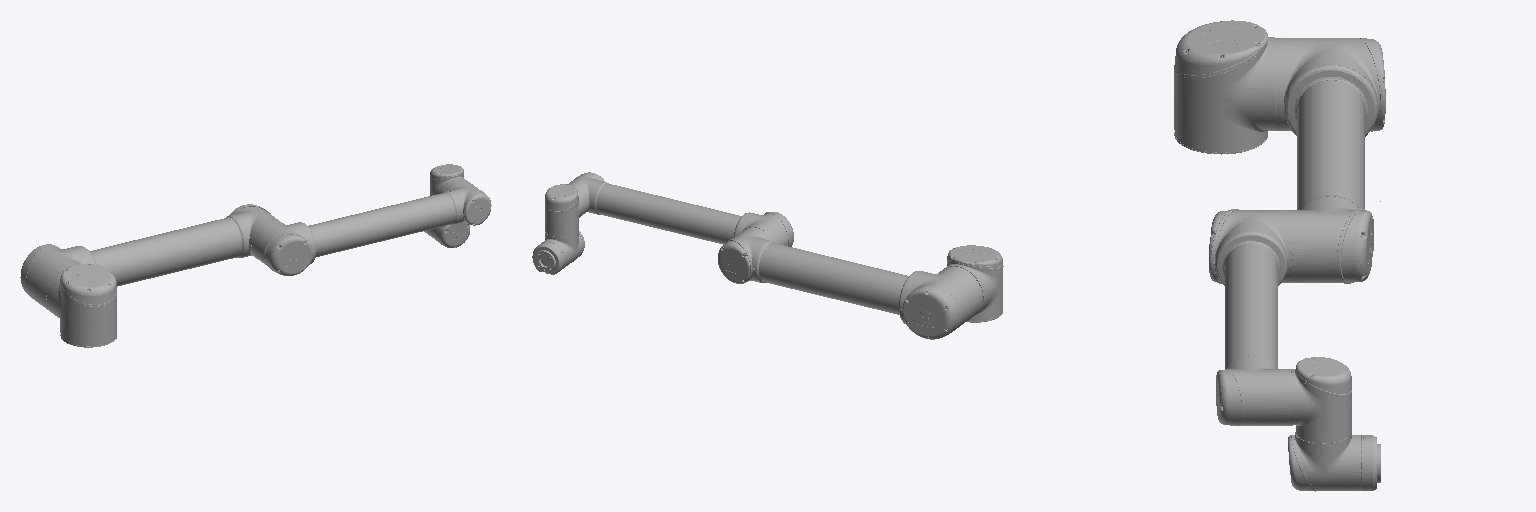
URDF robot description (ur10):
<?xml version="1.0" encoding="utf-8"?>
<!-- =================================================================================== -->
<!-- |    This document was autogenerated by xacro from ur10_robot.urdf.xacro          | -->
<!-- |    EDITING THIS FILE BY HAND IS NOT RECOMMENDED                                 | -->
<!-- =================================================================================== -->
<robot name="ur10" xmlns:xacro="http://wiki.ros.org/xacro">
  <gazebo>
    <plugin filename="libgazebo_ros_control.so" name="ros_control">
      <!--robotNamespace>/</robotNamespace-->
      <!--robotSimType>gazebo_ros_control/DefaultRobotHWSim</robotSimType-->
    </plugin>
    <!--
    <plugin name="gazebo_ros_power_monitor_controller" filename="libgazebo_ros_power_monitor.so">
      <alwaysOn>true</alwaysOn>
      <updateRate>1.0</updateRate>
      <timeout>5</timeout>
      <powerStateTopic>power_state</powerStateTopic>
      <powerStateRate>10.0</powerStateRate>
      <fullChargeCapacity>87.78</fullChargeCapacity>     
      <dischargeRate>-474</dischargeRate>
      <chargeRate>525</chargeRate>
      <dischargeVoltage>15.52</dischargeVoltage>
      <chargeVoltage>16.41</chargeVoltage>
    </plugin>
-->
  </gazebo>
  <!--
  Author: [author]
  Contributers: [author], [author], [author]
-->
  <!-- measured from model -->
  <link name="base_link">
    <visual>
      <geometry>
        <mesh filename="package://ur_description/meshes/ur10/visual/base.dae"/>
      </geometry>
      <material name="LightGrey">
        <color rgba="0.7 0.7 0.7 1.0"/>
      </material>
    </visual>
    <collision>
      <geometry>
        <mesh filename="package://ur_description/meshes/ur10/collision/base.stl"/>
      </geometry>
    </collision>
    <inertial>
      <mass value="4.0"/>
      <origin rpy="0 0 0" xyz="0.0 0.0 0.0"/>
      <inertia ixx="0.0061063308908" ixy="0.0" ixz="0.0" iyy="0.0061063308908" iyz="0.0" izz="0.01125"/>
    </inertial>
  </link>
  <joint name="shoulder_pan_joint" type="revolute">
    <parent link="base_link"/>
    <child link="shoulder_link"/>
    <origin rpy="0.0 0.0 0.0" xyz="0.0 0.0 0.1273"/>
    <axis xyz="0 0 1"/>
    <limit effort="330.0" lower="-6.28318530718" upper="6.28318530718" velocity="2.16"/>
    <dynamics damping="0.0" friction="0.0"/>
  </joint>
  <link name="shoulder_link">
    <visual>
      <geometry>
        <mesh filename="package://ur_description/meshes/ur10/visual/shoulder.dae"/>
      </geometry>
      <material name="LightGrey">
        <color rgba="0.7 0.7 0.7 1.0"/>
      </material>
    </visual>
    <collision>
      <geometry>
        <mesh filename="package://ur_description/meshes/ur10/collision/shoulder.stl"/>
      </geometry>
    </collision>
    <inertial>
      <mass value="7.778"/>
      <origin rpy="0 0 0" xyz="0.0 0.0 0.0"/>
      <inertia ixx="0.0314743125769" ixy="0.0" ixz="0.0" iyy="0.0314743125769" iyz="0.0" izz="0.021875625"/>
    </inertial>
  </link>
  <joint name="shoulder_lift_joint" type="revolute">
    <parent link="shoulder_link"/>
    <child link="upper_arm_link"/>
    <origin rpy="0.0 1.57079632679 0.0" xyz="0.0 0.220941 0.0"/>
    <axis xyz="0 1 0"/>
    <limit effort="330.0" lower="-6.28318530718" upper="6.28318530718" velocity="2.16"/>
    <dynamics damping="0.0" friction="0.0"/>
  </joint>
  <link name="upper_arm_link">
    <visual>
      <geometry>
        <mesh filename="package://ur_description/meshes/ur10/visual/upperarm.dae"/>
      </geometry>
      <material name="LightGrey">
        <color rgba="0.7 0.7 0.7 1.0"/>
      </material>
    </visual>
    <collision>
      <geometry>
        <mesh filename="package://ur_description/meshes/ur10/collision/upperarm.stl"/>
      </geometry>
    </collision>
    <inertial>
      <mass value="12.93"/>
      <origin rpy="0 0 0" xyz="0.0 0.0 0.306"/>
      <inertia ixx="0.421753803798" ixy="0.0" ixz="0.0" iyy="0.421753803798" iyz="0.0" izz="0.036365625"/>
    </inertial>
  </link>
  <joint name="elbow_joint" type="revolute">
    <parent link="upper_arm_link"/>
    <child link="forearm_link"/>
    <origin rpy="0.0 0.0 0.0" xyz="0.0 -0.1719 0.612"/>
    <axis xyz="0 1 0"/>
    <limit effort="150.0" lower="-3.14159265359" upper="3.14159265359" velocity="3.15"/>
    <dynamics damping="0.0" friction="0.0"/>
  </joint>
  <link name="forearm_link">
    <visual>
      <geometry>
        <mesh filename="package://ur_description/meshes/ur10/visual/forearm.dae"/>
      </geometry>
      <material name="LightGrey">
        <color rgba="0.7 0.7 0.7 1.0"/>
      </material>
    </visual>
    <collision>
      <geometry>
        <mesh filename="package://ur_description/meshes/ur10/collision/forearm.stl"/>
      </geometry>
    </collision>
    <inertial>
      <mass value="3.87"/>
      <origin rpy="0 0 0" xyz="0.0 0.0 0.28615"/>
      <inertia ixx="0.111069694097" ixy="0.0" ixz="0.0" iyy="0.111069694097" iyz="0.0" izz="0.010884375"/>
    </inertial>
  </link>
  <joint name="wrist_1_joint" type="revolute">
    <parent link="forearm_link"/>
    <child link="wrist_1_link"/>
    <origin rpy="0.0 1.57079632679 0.0" xyz="0.0 0.0 0.5723"/>
    <axis xyz="0 1 0"/>
    <limit effort="54.0" lower="-6.28318530718" upper="6.28318530718" velocity="3.2"/>
    <dynamics damping="0.0" friction="0.0"/>
  </joint>
  <link name="wrist_1_link">
    <visual>
      <geometry>
        <mesh filename="package://ur_description/meshes/ur10/visual/wrist1.dae"/>
      </geometry>
      <material name="LightGrey">
        <color rgba="0.7 0.7 0.7 1.0"/>
      </material>
    </visual>
    <collision>
      <geometry>
        <mesh filename="package://ur_description/meshes/ur10/collision/wrist1.stl"/>
      </geometry>
    </collision>
    <inertial>
      <mass value="1.96"/>
      <origin rpy="0 0 0" xyz="0.0 0.0 0.0"/>
      <inertia ixx="0.0051082479567" ixy="0.0" ixz="0.0" iyy="0.0051082479567" iyz="0.0" izz="0.0055125"/>
    </inertial>
  </link>
  <joint name="wrist_2_joint" type="revolute">
    <parent link="wrist_1_link"/>
    <child link="wrist_2_link"/>
    <origin rpy="0.0 0.0 0.0" xyz="0.0 0.1149 0.0"/>
    <axis xyz="0 0 1"/>
    <limit effort="54.0" lower="-6.28318530718" upper="6.28318530718" velocity="3.2"/>
    <dynamics damping="0.0" friction="0.0"/>
  </joint>
  <link name="wrist_2_link">
    <visual>
      <geometry>
        <mesh filename="package://ur_description/meshes/ur10/visual/wrist2.dae"/>
      </geometry>
      <material name="LightGrey">
        <color rgba="0.7 0.7 0.7 1.0"/>
      </material>
    </visual>
    <collision>
      <geometry>
        <mesh filename="package://ur_description/meshes/ur10/collision/wrist2.stl"/>
      </geometry>
    </collision>
    <inertial>
      <mass value="1.96"/>
      <origin rpy="0 0 0" xyz="0.0 0.0 0.0"/>
      <inertia ixx="0.0051082479567" ixy="0.0" ixz="0.0" iyy="0.0051082479567" iyz="0.0" izz="0.0055125"/>
    </inertial>
  </link>
  <joint name="wrist_3_joint" type="revolute">
    <parent link="wrist_2_link"/>
    <child link="wrist_3_link"/>
    <origin rpy="0.0 0.0 0.0" xyz="0.0 0.0 0.1157"/>
    <axis xyz="0 1 0"/>
    <limit effort="54.0" lower="-6.28318530718" upper="6.28318530718" velocity="3.2"/>
    <dynamics damping="0.0" friction="0.0"/>
  </joint>
  <link name="wrist_3_link">
    <visual>
      <geometry>
        <mesh filename="package://ur_description/meshes/ur10/visual/wrist3.dae"/>
      </geometry>
      <material name="LightGrey">
        <color rgba="0.7 0.7 0.7 1.0"/>
      </material>
    </visual>
    <collision>
      <geometry>
        <mesh filename="package://ur_description/meshes/ur10/collision/wrist3.stl"/>
      </geometry>
    </collision>
    <inertial>
      <mass value="0.202"/>
      <origin rpy="0 0 0" xyz="0.0 0.0 0.0"/>
      <inertia ixx="0.000526462289415" ixy="0.0" ixz="0.0" iyy="0.000526462289415" iyz="0.0" izz="0.000568125"/>
    </inertial>
  </link>
  <joint name="ee_fixed_joint" type="fixed">
    <parent link="wrist_3_link"/>
    <child link="ee_link"/>
    <origin rpy="0.0 0.0 1.57079632679" xyz="0.0 0.0922 0.0"/>
  </joint>
  <link name="ee_link">
    <collision>
      <geometry>
        <box size="0.01 0.01 0.01"/>
      </geometry>
      <origin rpy="0 0 0" xyz="-0.01 0 0"/>
    </collision>
  </link>
  <transmission name="shoulder_pan_trans">
    <type>transmission_interface/SimpleTransmission</type>
    <joint name="shoulder_pan_joint">
      <hardwareInterface>hardware_interface/PositionJointInterface</hardwareInterface>
    </joint>
    <actuator name="shoulder_pan_motor">
      <mechanicalReduction>1</mechanicalReduction>
    </actuator>
  </transmission>
  <transmission name="shoulder_lift_trans">
    <type>transmission_interface/SimpleTransmission</type>
    <joint name="shoulder_lift_joint">
      <hardwareInterface>hardware_interface/PositionJointInterface</hardwareInterface>
    </joint>
    <actuator name="shoulder_lift_motor">
      <mechanicalReduction>1</mechanicalReduction>
    </actuator>
  </transmission>
  <transmission name="elbow_trans">
    <type>transmission_interface/SimpleTransmission</type>
    <joint name="elbow_joint">
      <hardwareInterface>hardware_interface/PositionJointInterface</hardwareInterface>
    </joint>
    <actuator name="elbow_motor">
      <mechanicalReduction>1</mechanicalReduction>
    </actuator>
  </transmission>
  <transmission name="wrist_1_trans">
    <type>transmission_interface/SimpleTransmission</type>
    <joint name="wrist_1_joint">
      <hardwareInterface>hardware_interface/PositionJointInterface</hardwareInterface>
    </joint>
    <actuator name="wrist_1_motor">
      <mechanicalReduction>1</mechanicalReduction>
    </actuator>
  </transmission>
  <transmission name="wrist_2_trans">
    <type>transmission_interface/SimpleTransmission</type>
    <joint name="wrist_2_joint">
      <hardwareInterface>hardware_interface/PositionJointInterface</hardwareInterface>
    </joint>
    <actuator name="wrist_2_motor">
      <mechanicalReduction>1</mechanicalReduction>
    </actuator>
  </transmission>
  <transmission name="wrist_3_trans">
    <type>transmission_interface/SimpleTransmission</type>
    <joint name="wrist_3_joint">
      <hardwareInterface>hardware_interface/PositionJointInterface</hardwareInterface>
    </joint>
    <actuator name="wrist_3_motor">
      <mechanicalReduction>1</mechanicalReduction>
    </actuator>
  </transmission>
  <gazebo reference="shoulder_link">
    <selfCollide>true</selfCollide>
  </gazebo>
  <gazebo reference="upper_arm_link">
    <selfCollide>true</selfCollide>
  </gazebo>
  <gazebo reference="forearm_link">
    <selfCollide>true</selfCollide>
  </gazebo>
  <gazebo reference="wrist_1_link">
    <selfCollide>true</selfCollide>
  </gazebo>
  <gazebo reference="wrist_3_link">
    <selfCollide>true</selfCollide>
  </gazebo>
  <gazebo reference="wrist_2_link">
    <selfCollide>true</selfCollide>
  </gazebo>
  <gazebo reference="ee_link">
    <selfCollide>true</selfCollide>
  </gazebo>
  <!-- ROS base_link to UR 'Base' Coordinates transform -->
  <link name="base"/>
  <joint name="base_link-base_fixed_joint" type="fixed">
    <!-- NOTE: this rotation is only needed as long as base_link itself is
                 not corrected wrt the real robot (ie: rotated over 180
                 degrees)
      -->
    <origin rpy="0 0 -3.14159265359" xyz="0 0 0"/>
    <parent link="base_link"/>
    <child link="base"/>
  </joint>
  <!-- Frame coincident with all-zeros TCP on UR controller -->
  <link name="tool0"/>
  <joint name="wrist_3_link-tool0_fixed_joint" type="fixed">
    <origin rpy="-1.57079632679 0 0" xyz="0 0.0922 0"/>
    <parent link="wrist_3_link"/>
    <child link="tool0"/>
  </joint>
  <link name="world"/>
  <joint name="world_joint" type="fixed">
    <parent link="world"/>
    <child link="base_link"/>
    <origin rpy="0.0 0.0 0.0" xyz="0.0 0.0 0.0"/>
  </joint>
</robot>

--- What the picture shows (computed from the rendered views, not written in the file) ---
The picture shows the robot from 3 angles, left to right: view 1: azimuth 30°, elevation 25°; view 2: azimuth 150°, elevation 25°; view 3: azimuth 270°, elevation 25°; orthographic projection.
Robot: ur10 — 11 links, 10 joints (6 revolute, 4 fixed); root link world; default pose: every joint at zero.
Links seen in each view (by area): view 1: upper_arm_link, forearm_link, shoulder_link, wrist_2_link, wrist_1_link; view 2: upper_arm_link, forearm_link, shoulder_link, wrist_1_link, wrist_3_link, wrist_2_link; view 3: upper_arm_link, forearm_link, shoulder_link, wrist_1_link, wrist_2_link, wrist_3_link.
Link boxes in pixels (left/top/right/bottom): upper_arm_link: left=20, top=204, right=278, bottom=312; forearm_link: left=249, top=179, right=491, bottom=275; shoulder_link: left=48, top=264, right=116, bottom=347; wrist_2_link: left=424, top=222, right=469, bottom=247; wrist_1_link: left=430, top=164, right=463, bottom=195; upper_arm_link: left=718, top=228, right=982, bottom=339; forearm_link: left=567, top=172, right=793, bottom=246; shoulder_link: left=944, top=245, right=1003, bottom=322; wrist_1_link: left=545, top=184, right=585, bottom=237; wrist_3_link: left=532, top=242, right=564, bottom=274; wrist_2_link: left=542, top=231, right=584, bottom=268; upper_arm_link: left=1275, top=38, right=1385, bottom=283; forearm_link: left=1209, top=209, right=1293, bottom=425; shoulder_link: left=1174, top=20, right=1274, bottom=154; wrist_1_link: left=1290, top=357, right=1351, bottom=443; wrist_2_link: left=1288, top=432, right=1361, bottom=491; wrist_3_link: left=1362, top=435, right=1380, bottom=490.
Bounding box of the posed robot: 1.31 × 0.3383 × 0.2635 m (x, y, z).
6 mesh visuals loaded from 7 distinct referenced files (6 Collada DAE); not drawn: 1 (reference not matched to a file when rendering).